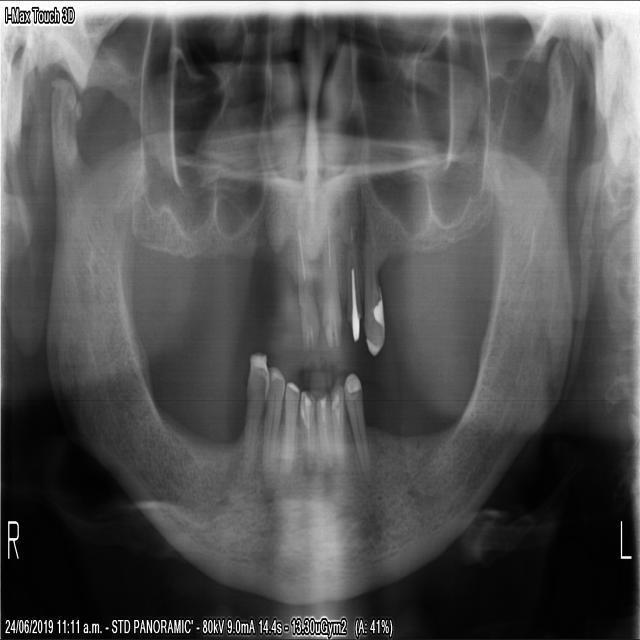LCD: (340, 367, 374, 490)
LCU: (360, 193, 387, 359)
LID: (327, 373, 345, 477), (313, 385, 332, 475)
LIU: (319, 207, 343, 351), (342, 216, 362, 350)
RCD: (260, 361, 285, 479)
RID: (280, 376, 299, 478), (297, 382, 315, 477)
RIU: (292, 221, 321, 358)
RPMD: (237, 341, 270, 484)
